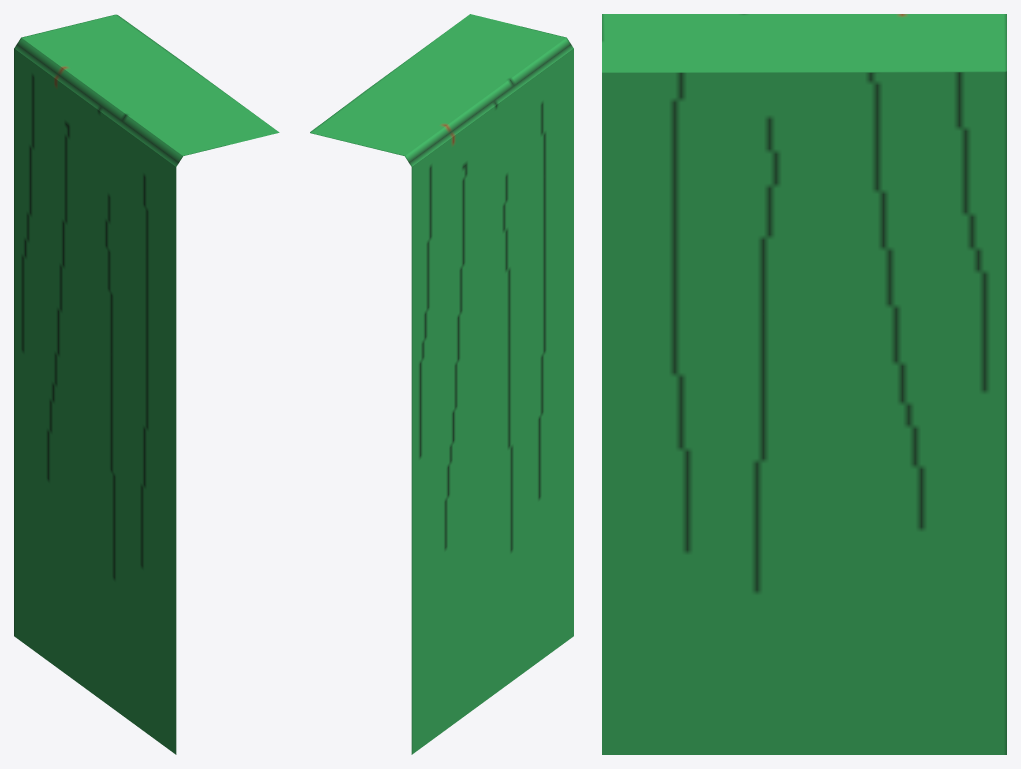
Rendered from Overgrowth_Long.fbx.
3 views of the same model, side by side, from view 1: azimuth 30°, elevation 25°; view 2: azimuth 150°, elevation 25°; view 3: azimuth 270°, elevation 25° (orthographic). The views are drawn at different scales.
Visible parts, largest first — view 1: Overgrowth_Long; view 2: Overgrowth_Long; view 3: Overgrowth_Long.
Part boxes in pixels (box(x1,y1,x2,y2)): Overgrowth_Long: box(14, 14, 279, 754); Overgrowth_Long: box(310, 14, 573, 754); Overgrowth_Long: box(602, 14, 1006, 754).
Size of the model in its own units: 73.75 by 406 by 200.
1 material, 1 textured.
